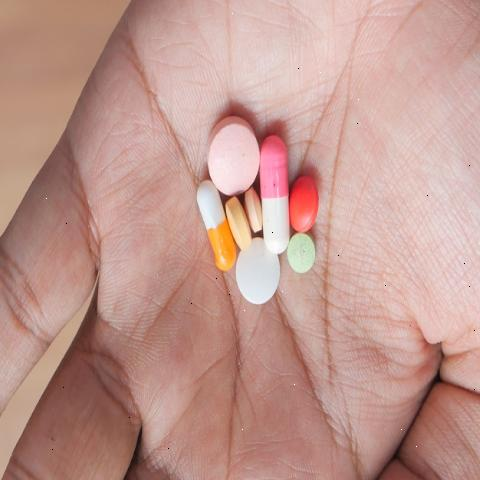Pill: (222, 232, 286, 324), (202, 105, 262, 193)
